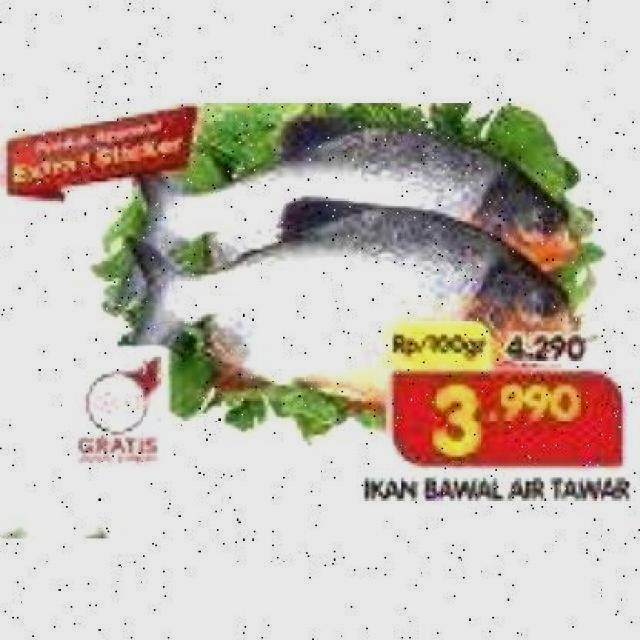ikan-pacu: (147, 206, 561, 392), (149, 137, 577, 254)
